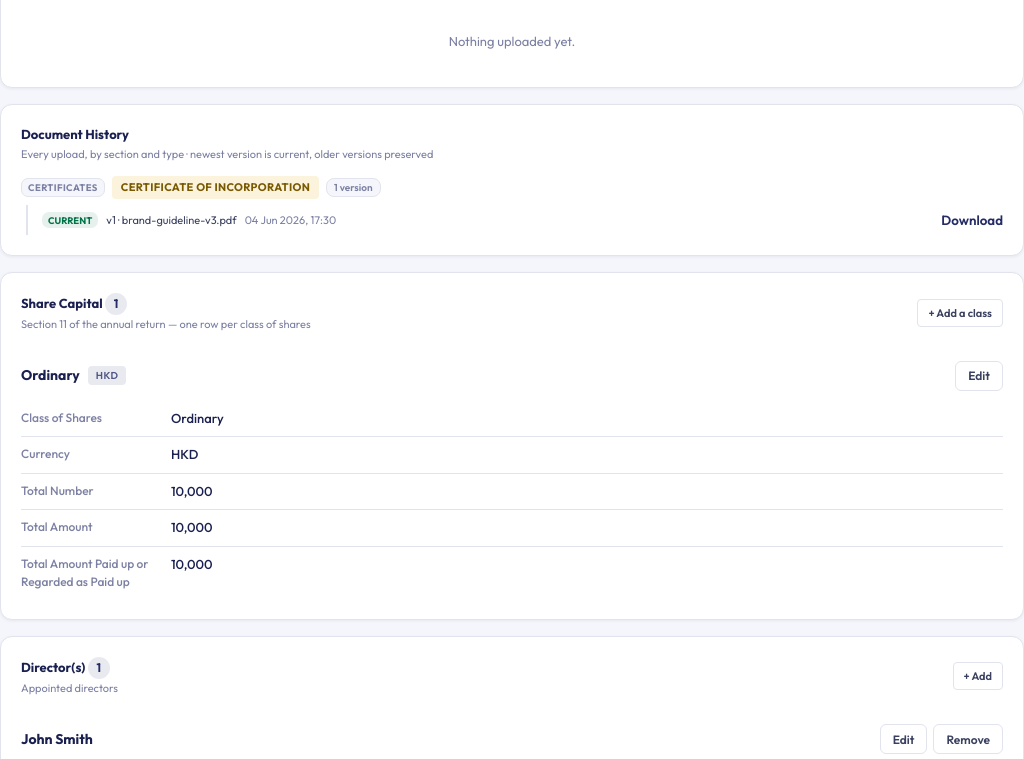
Test: CompanyProfilePage — the CR form fields › edits a share class in a DIALOG, not inline under the row
(page scrolled)
Click the 1st button "Edit" at (979, 376), box [955, 361, 1003, 391]
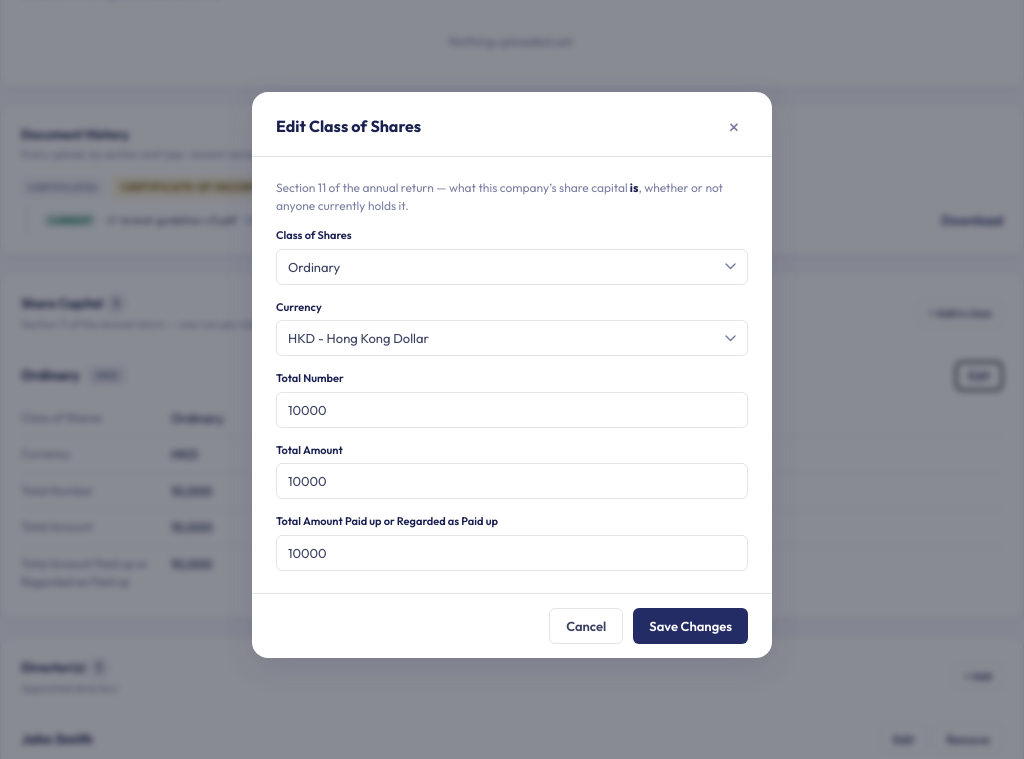
Expected: the button "Cancel" is shown, [549, 608, 623, 644]
Expected: the button "Save Changes" is shown, [633, 608, 748, 644]
